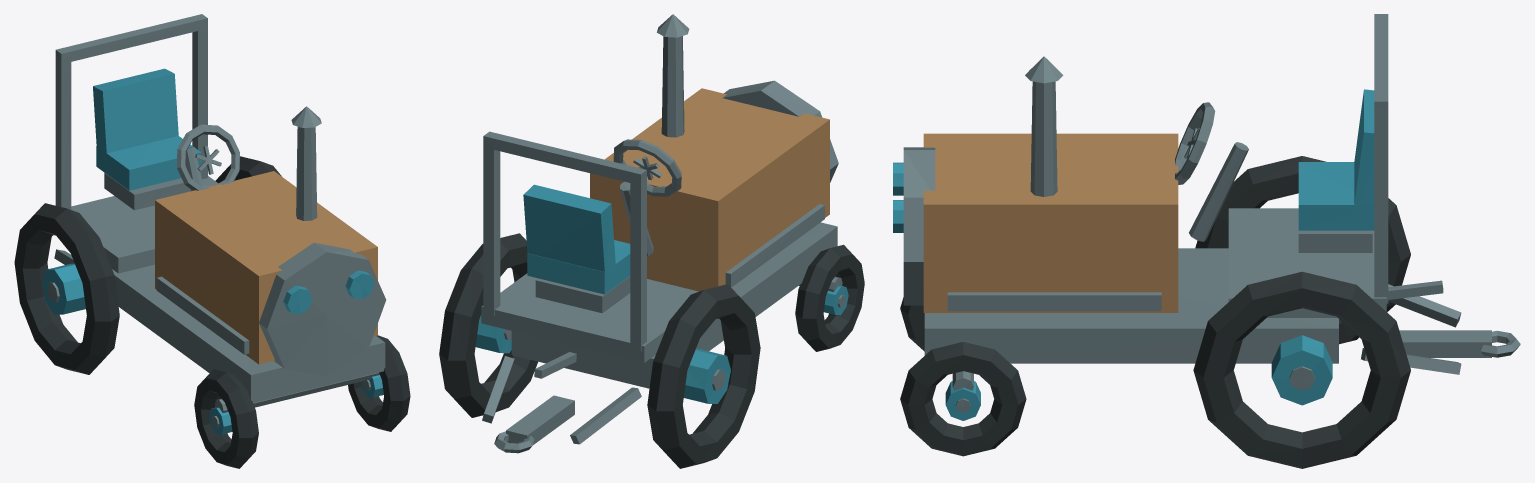
The model's file is Tractor.glb.
3 views of the same model, side by side, from view 1: azimuth 30°, elevation 25°; view 2: azimuth 150°, elevation 25°; view 3: azimuth 270°, elevation 25° (orthographic). The views are drawn at different scales.
Parts seen in each view (by area): view 1: tractor-static-tractor-dark-iron-chassis, tractor-static-tractor-muted-teal-body, tractor-static-tractor-charcoal-rubber, tractor-static-tractor-galvanized-mechanics, tractor-static-tractor-warm-cream-hubs-seat; view 2: tractor-static-tractor-muted-teal-body, tractor-static-tractor-dark-iron-chassis, tractor-static-tractor-charcoal-rubber, tractor-static-tractor-galvanized-mechanics, tractor-static-tractor-warm-cream-hubs-seat; view 3: tractor-static-tractor-muted-teal-body, tractor-static-tractor-dark-iron-chassis, tractor-static-tractor-charcoal-rubber, tractor-static-tractor-galvanized-mechanics, tractor-static-tractor-warm-cream-hubs-seat.
Boxes of the visible parts, x1=… form: tractor-static-tractor-dark-iron-chassis: x1=47, y1=14, x2=385, y2=427; tractor-static-tractor-muted-teal-body: x1=155, y1=171, x2=377, y2=364; tractor-static-tractor-charcoal-rubber: x1=14, y1=156, x2=410, y2=468; tractor-static-tractor-galvanized-mechanics: x1=71, y1=146, x2=386, y2=412; tractor-static-tractor-warm-cream-hubs-seat: x1=42, y1=68, x2=383, y2=434; tractor-static-tractor-muted-teal-body: x1=590, y1=88, x2=829, y2=291; tractor-static-tractor-dark-iron-chassis: x1=482, y1=14, x2=845, y2=445; tractor-static-tractor-charcoal-rubber: x1=439, y1=233, x2=864, y2=468; tractor-static-tractor-galvanized-mechanics: x1=481, y1=80, x2=842, y2=453; tractor-static-tractor-warm-cream-hubs-seat: x1=475, y1=184, x2=848, y2=403; tractor-static-tractor-muted-teal-body: x1=923, y1=133, x2=1178, y2=312; tractor-static-tractor-dark-iron-chassis: x1=924, y1=14, x2=1491, y2=412; tractor-static-tractor-charcoal-rubber: x1=900, y1=156, x2=1410, y2=468; tractor-static-tractor-galvanized-mechanics: x1=903, y1=127, x2=1520, y2=390; tractor-static-tractor-warm-cream-hubs-seat: x1=893, y1=89, x2=1374, y2=420.
Bounding box in the file's own units: 1.8 × 2.37 × 3.58.
